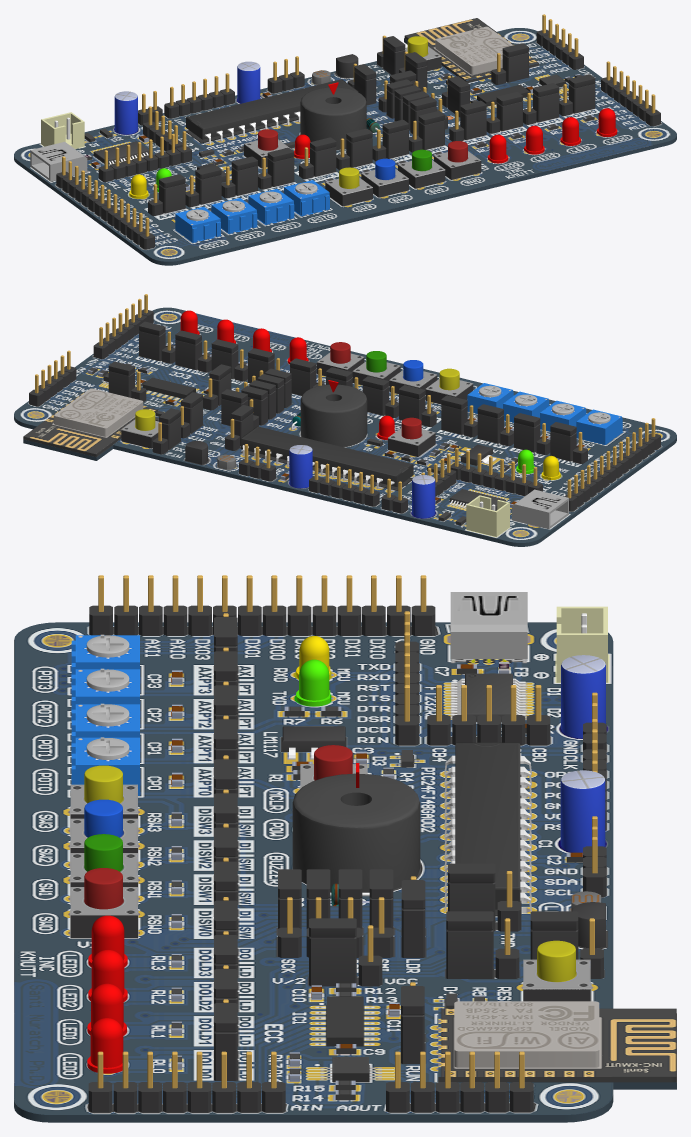
The model's file is board_sim.gltf.
3 views of the same model, one above another, from view 1: azimuth 30°, elevation 25°; view 2: azimuth 150°, elevation 25°; view 3: azimuth 270°, elevation 25° (orthographic). The views are drawn at different scales.
Visible parts, largest first — view 1: board, buzzer, body_pot3, body_pot1, body_pot2, body_pot0, psw_body_3, psw_body_1, psw_body_0, psw_body_2, led3, led0 (+8 smaller); view 2: board, buzzer, body_pot3, psw_mcu_reset_body, body_pot2, body_pot1, body_pot0, psw_esp_reset_body, psw_body_3, psw_body_1, psw_body_2, psw_body_0 (+7 smaller); view 3: board, buzzer, psw_body_0, psw_esp_reset_body, body_pot0, body_pot2, body_pot3, led0, body_pot1, psw0, psw_esp_reset, led_txd (+15 smaller).
Part boxes in pixels (x1=…): board: x1=14, y1=14, x2=676, y2=265; buzzer: x1=300, y1=87, x2=366, y2=149; body_pot3: x1=175, y1=206, x2=220, y2=242; body_pot1: x1=248, y1=189, x2=294, y2=224; body_pot2: x1=211, y1=198, x2=257, y2=233; body_pot0: x1=284, y1=180, x2=329, y2=215; psw_body_3: x1=325, y1=177, x2=372, y2=206; psw_body_1: x1=398, y1=160, x2=445, y2=188; psw_body_0: x1=434, y1=151, x2=481, y2=179; psw_body_2: x1=361, y1=169, x2=408, y2=197; led3: x1=487, y1=134, x2=508, y2=163; led0: x1=596, y1=108, x2=617, y2=136; board: x1=14, y1=294, x2=676, y2=546; buzzer: x1=300, y1=384, x2=367, y2=446; body_pot3: x1=576, y1=409, x2=622, y2=444; psw_mcu_reset_body: x1=388, y1=428, x2=435, y2=456; body_pot2: x1=540, y1=400, x2=586, y2=431; body_pot1: x1=503, y1=391, x2=549, y2=422; body_pot0: x1=467, y1=383, x2=513, y2=413; psw_esp_reset_body: x1=121, y1=419, x2=158, y2=448; psw_body_3: x1=425, y1=379, x2=473, y2=404; psw_body_1: x1=352, y1=361, x2=400, y2=385; psw_body_2: x1=389, y1=370, x2=437, y2=394; psw_body_0: x1=316, y1=352, x2=364, y2=376; board: x1=14, y1=575, x2=676, y2=1122; buzzer: x1=292, y1=773, x2=420, y2=892; psw_body_0: x1=70, y1=887, x2=137, y2=938; psw_esp_reset_body: x1=523, y1=959, x2=590, y2=1001; body_pot0: x1=71, y1=737, x2=139, y2=795; body_pot2: x1=71, y1=669, x2=139, y2=709; body_pot3: x1=71, y1=635, x2=139, y2=674; led0: x1=87, y1=1018, x2=123, y2=1073; body_pot1: x1=71, y1=704, x2=139, y2=743; psw0: x1=84, y1=868, x2=122, y2=909; psw_esp_reset: x1=537, y1=940, x2=575, y2=981; led_txd: x1=296, y1=659, x2=330, y2=706.
Bounding box in the file's own units: 5 × 0.5142 × 2.85.
Materials: 14 (1 with a texture image).
